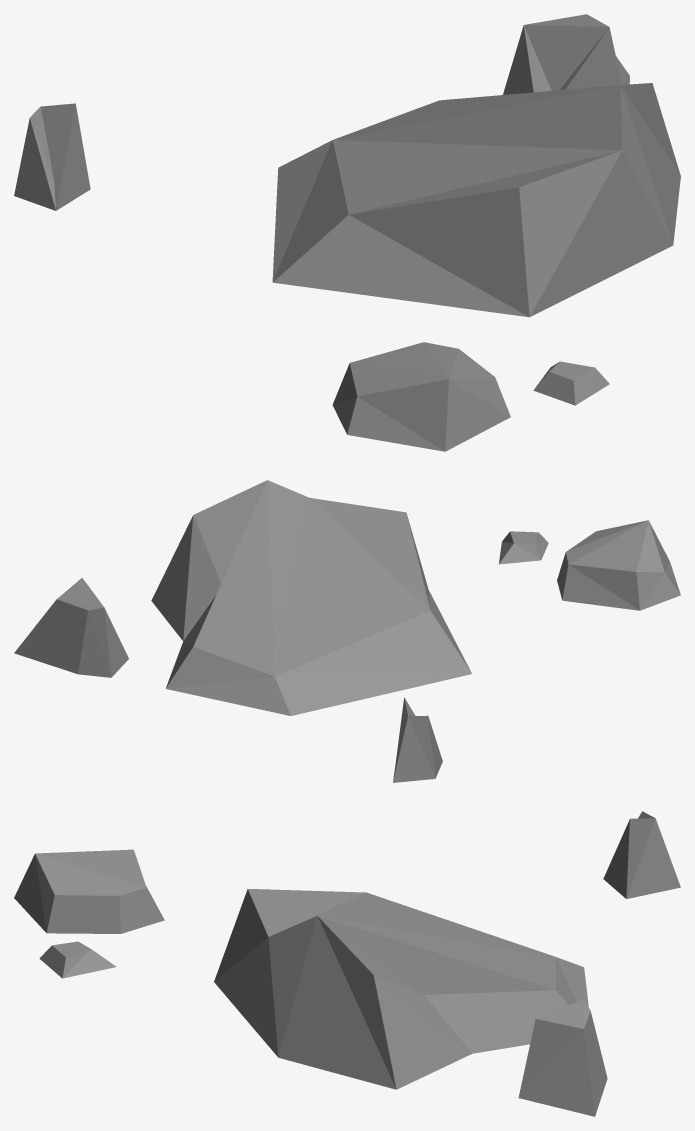
File: Stone_B_18.FBX
3 views of the same model, one above another, from view 1: azimuth 30°, elevation 25°; view 2: azimuth 150°, elevation 25°; view 3: azimuth 270°, elevation 25° (orthographic). The views are drawn at different scales.
Parts seen in each view (by area): view 1: Stone_B_18; view 2: Stone_B_18; view 3: Stone_B_18.
Boxes of the visible parts, x1=… form: Stone_B_18: x1=14, y1=14, x2=680, y2=451; Stone_B_18: x1=14, y1=480, x2=680, y2=782; Stone_B_18: x1=14, y1=811, x2=680, y2=1116.
Bounding box in the file's own units: 1.25 × 0.3077 × 1.44.
